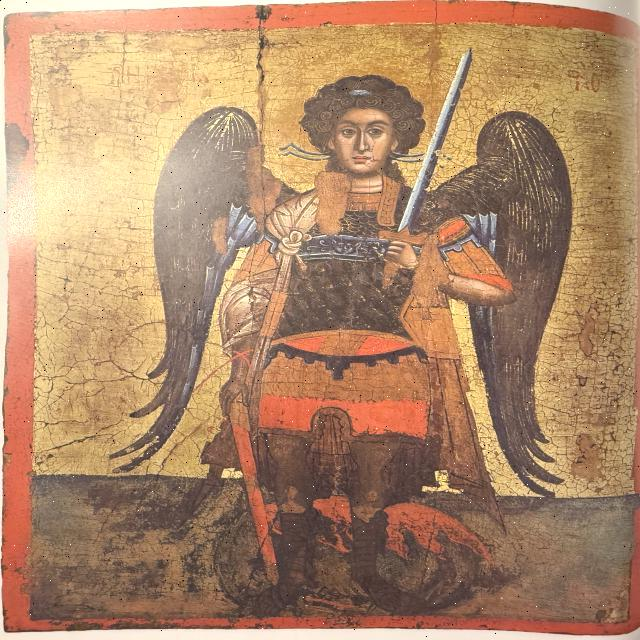angel: (113, 35, 625, 597)
sword: (380, 46, 480, 285)
wing: (84, 102, 287, 468), (443, 106, 602, 492)
